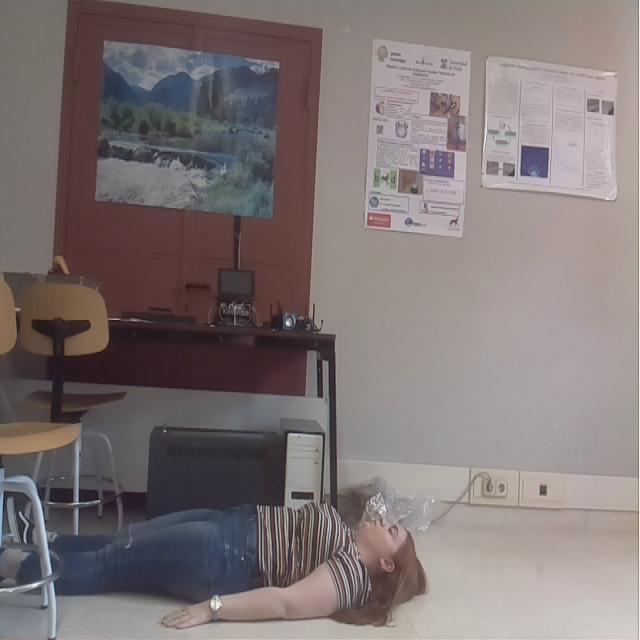person: (0, 500, 429, 630)
